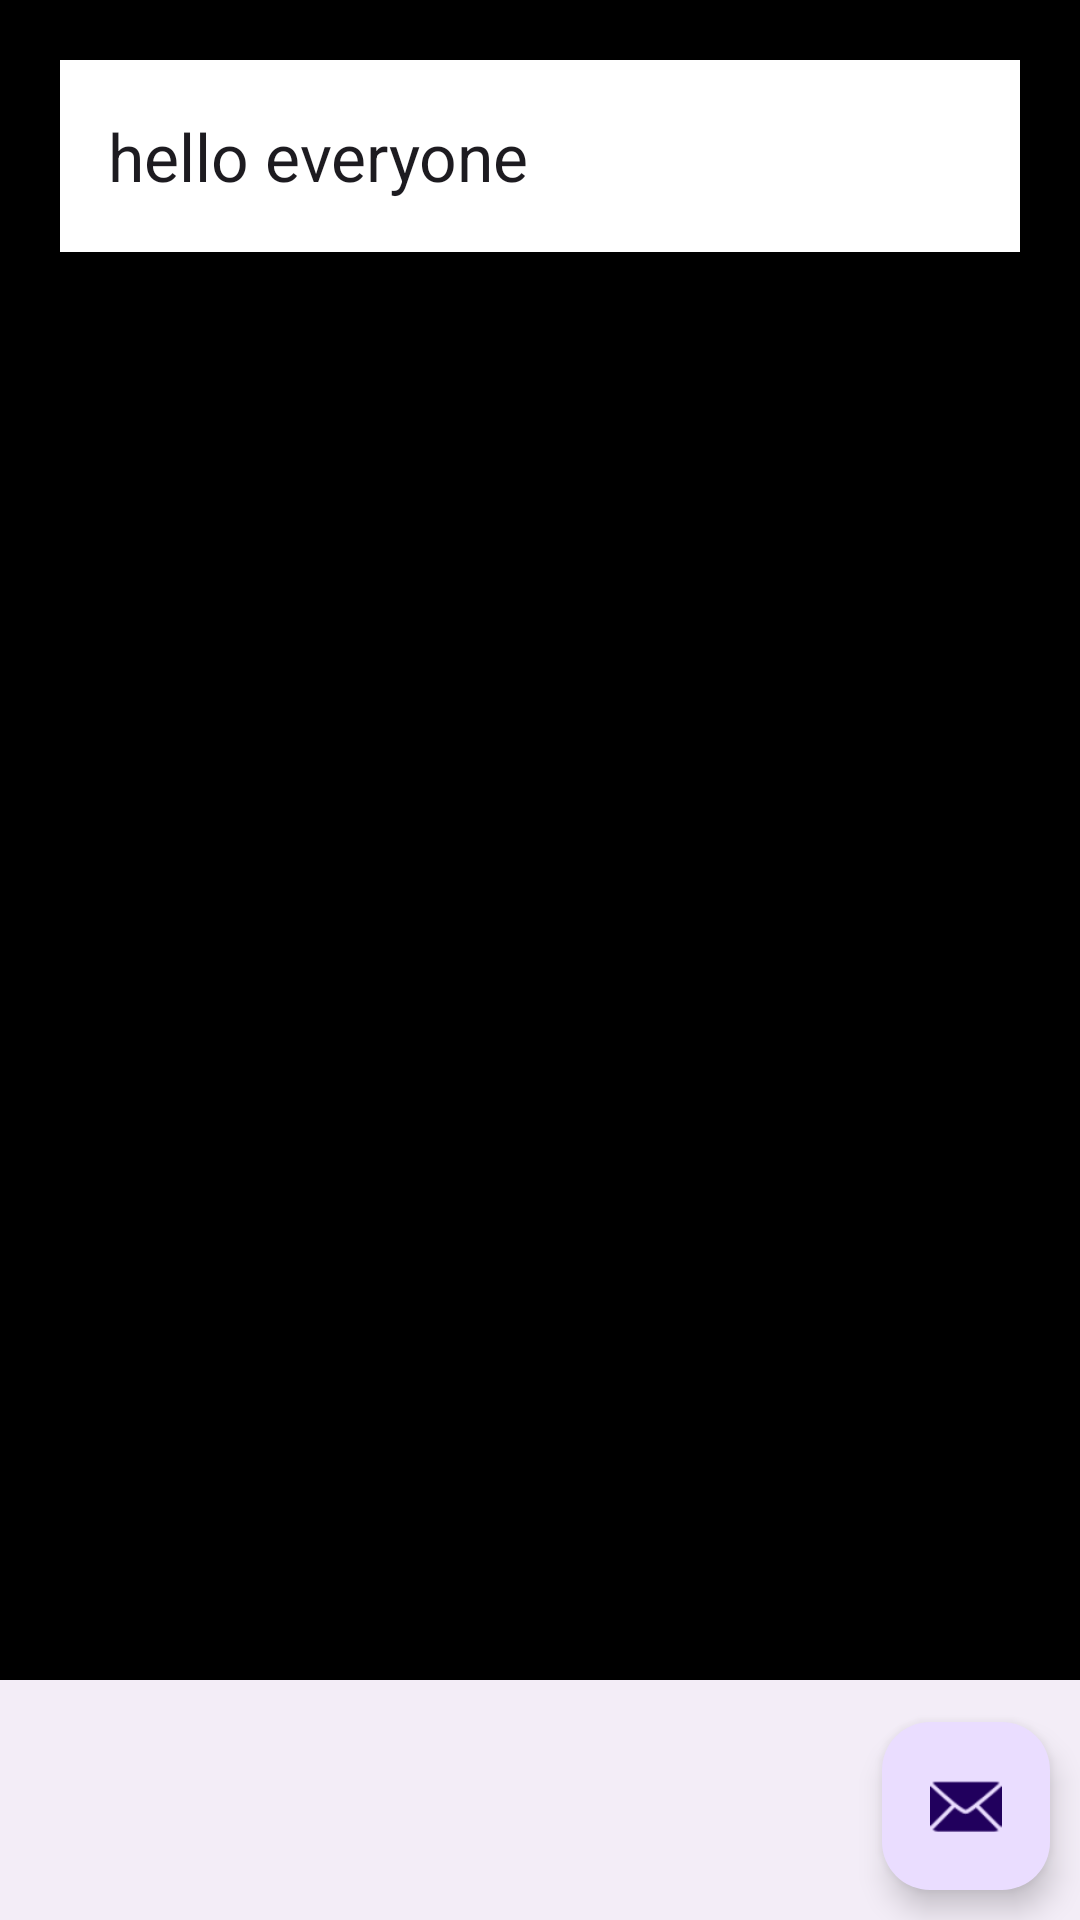

Icon click points for this 1080×1920 phone screenshot, format [x,y]:
email: [966,1806]
